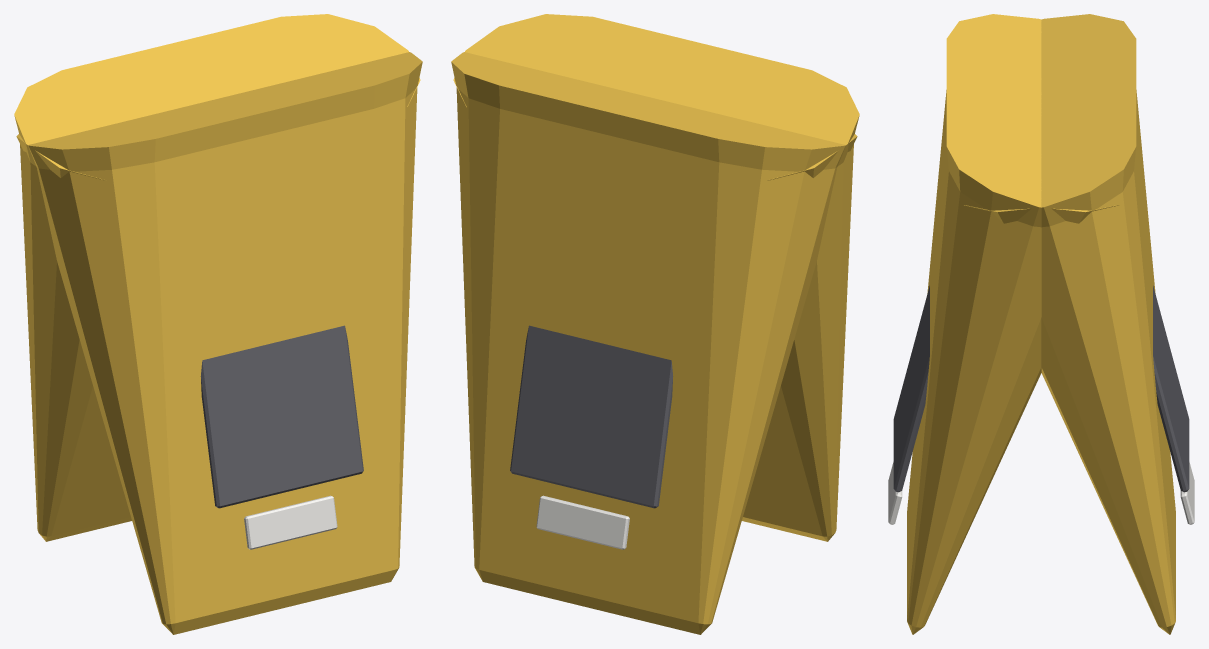
Rendered from petrol-station-and-forecourt-shop-wet-floor-sign-93248cf2__33987.glb.
3 views of the same model, side by side, from view 1: azimuth 30°, elevation 25°; view 2: azimuth 150°, elevation 25°; view 3: azimuth 270°, elevation 25° (orthographic).
Parts seen in each view (by area): view 1: wet-floor-sign; view 2: wet-floor-sign; view 3: wet-floor-sign.
Boxes of the visible parts, box(x1,y1,x2,y2) form: wet-floor-sign: box(14, 14, 422, 634); wet-floor-sign: box(451, 14, 859, 634); wet-floor-sign: box(888, 14, 1194, 634).
Bounding box in the file's own units: 0.52 × 0.6287 × 0.3568.
